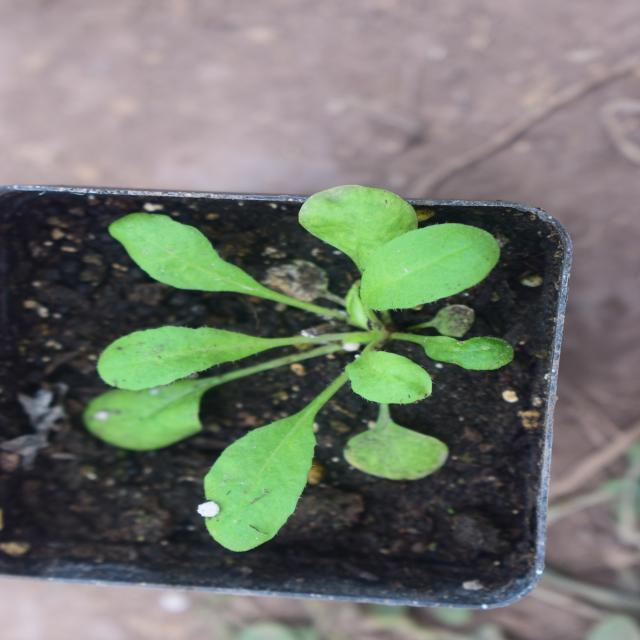Shepherd_Purse: (97, 90, 455, 503)
